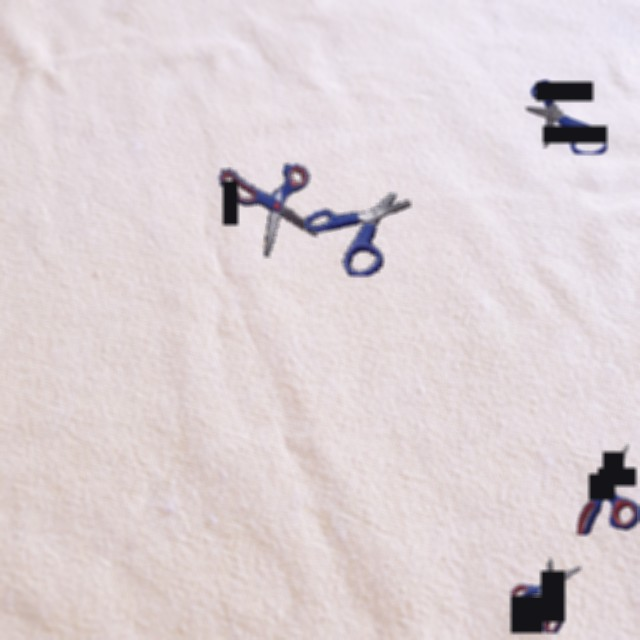scissors: (218, 163, 317, 257), (305, 193, 411, 276), (526, 80, 607, 154), (577, 444, 639, 535), (510, 557, 581, 633)
